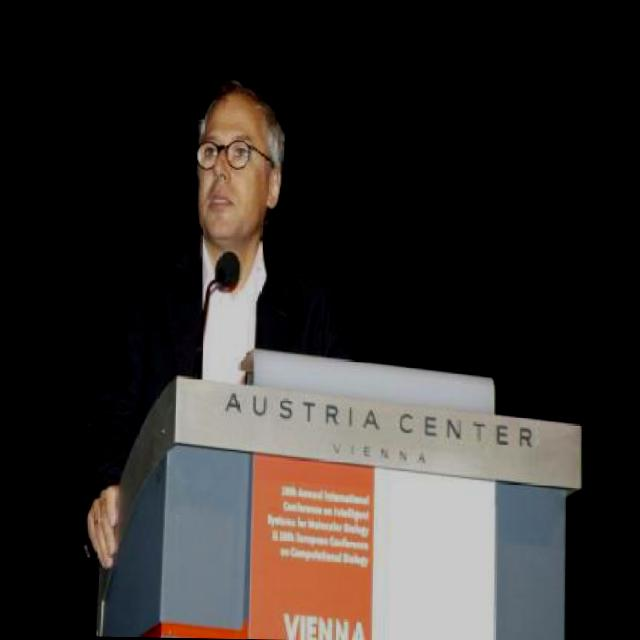Person: (87, 90, 359, 552)
